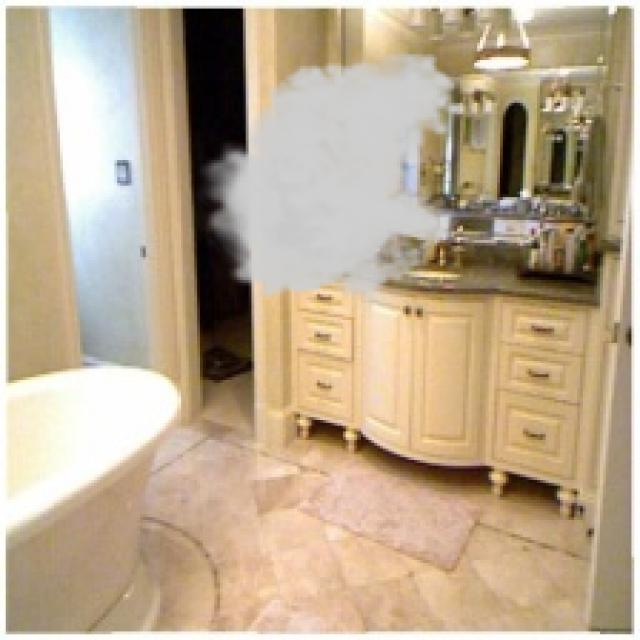smoke: (194, 49, 466, 314)
